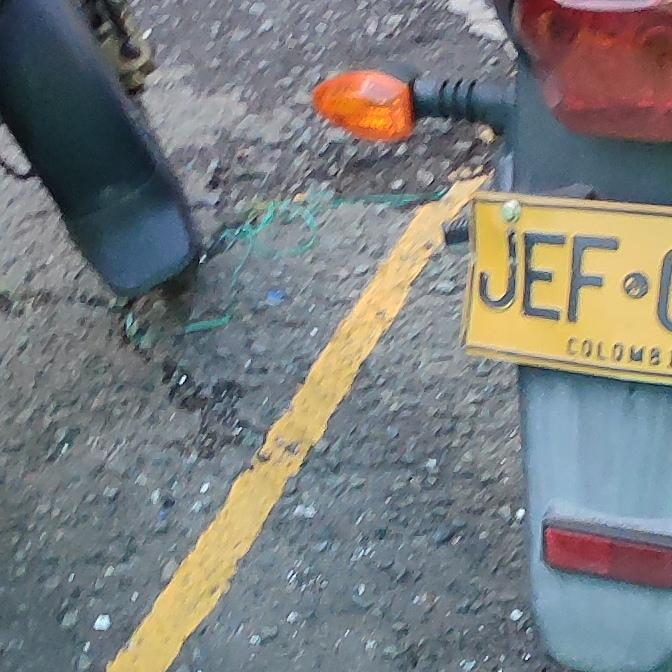plates: (463, 193, 672, 384)
